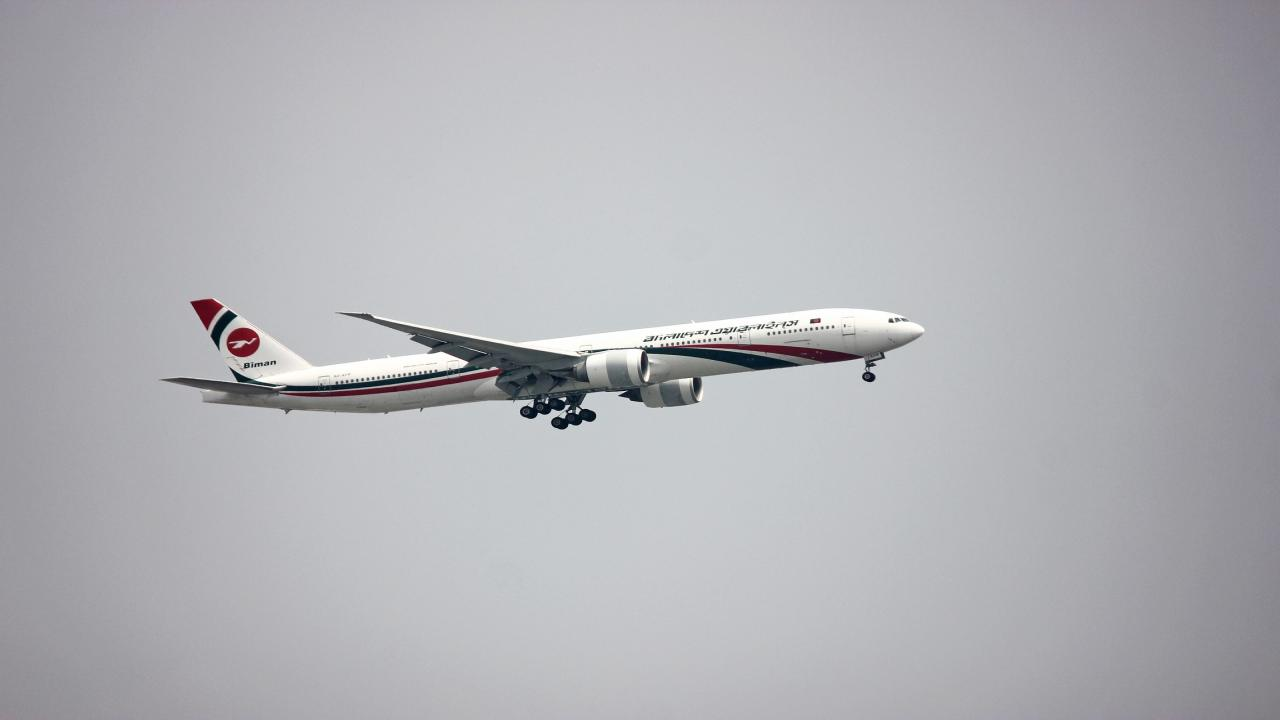Airplane: (151, 274, 947, 445)
